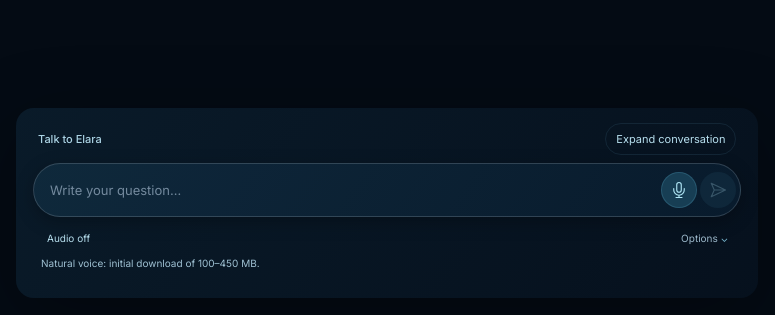
Test: uses the same natural voice on touch screens and expands a readable conversation
Expected: the field named "Your message" is enabled, [34,164,658,216]
Click the button "Expand conversation" at point(671, 139), box [605,123,736,155]
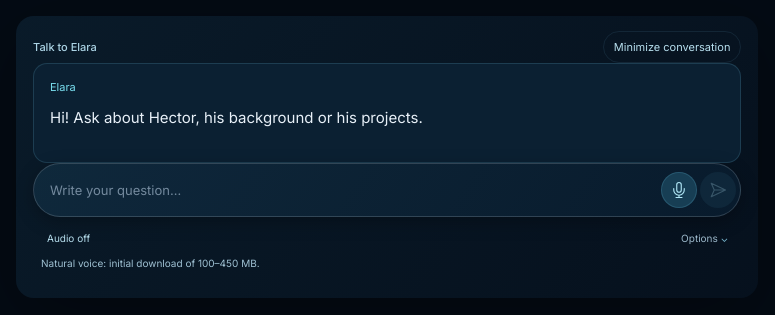
Expected: the button "Minimize conversation" is expanded, [603,31,741,63]
Type "Tell me about Hector" into the field named "Your message" at point(346, 190), box [34,164,658,216]
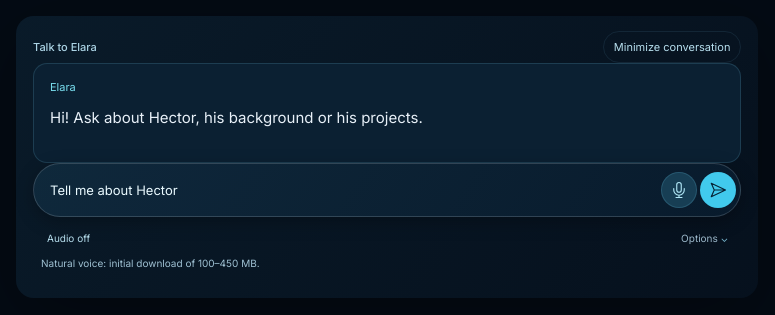
Click the button named "Send message" at point(718, 190), box [700,172,736,208]
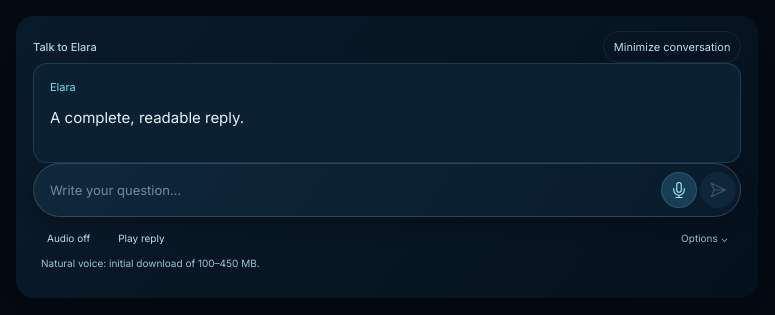
Expected: the text "A complete, readable reply." is shown, [50,108,244,127]
Press Escape
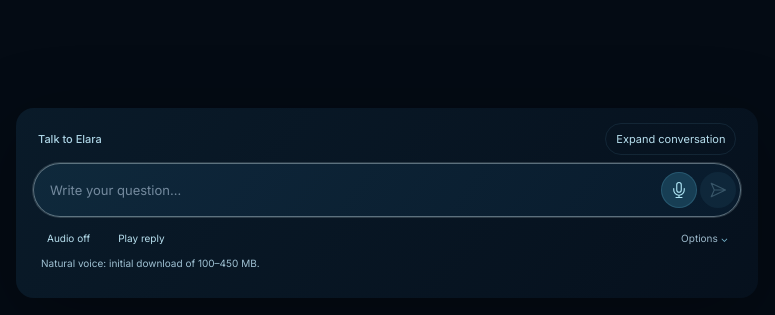
Expected: the button "Expand conversation" is shown, [605,123,736,155]
